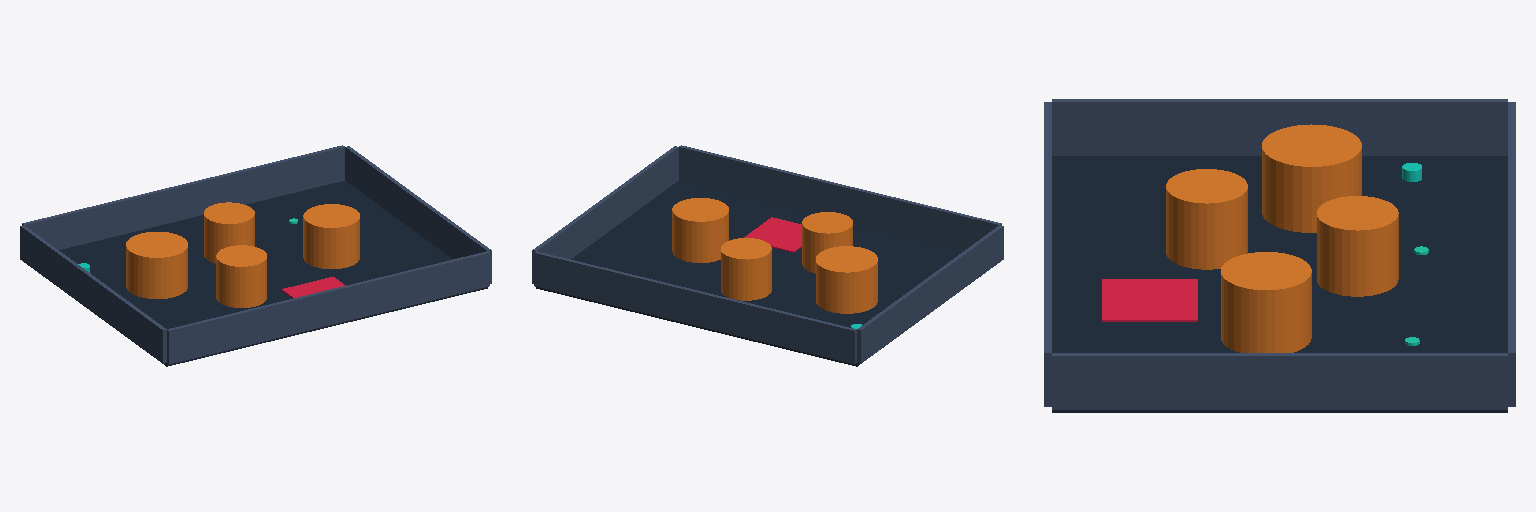
robot.urdf — veab_distribution-shift:
<?xml version='1.0' encoding='utf-8'?>
<robot name="veab_distribution-shift"><link name="world" /><link name="factory-floor"><visual><origin xyz="0 0 0" rpy="0 0 0" /><geometry><box size="13 10 0.15" /></geometry><material name="mat_factory-floor"><color rgba="0.16 0.21 0.27 1" /></material></visual><collision><origin xyz="0 0 0" rpy="0 0 0" /><geometry><box size="13 10 0.15" /></geometry></collision><inertial><origin xyz="0 0 0" rpy="0 0 0" /><mass value="1.0" /><inertia ixx="0.12" iyy="0.12" izz="0.12" ixy="0" ixz="0" iyz="0" /></inertial></link><joint name="anchor_factory-floor" type="fixed"><parent link="world" /><child link="factory-floor" /><origin xyz="6.5 5 -0.075" rpy="0 0 0" /></joint><link name="west-boundary"><visual><origin xyz="0 0 0" rpy="0 0 0" /><geometry><box size="0.16 10 1.3" /></geometry><material name="mat_west-boundary"><color rgba="0.3 0.36 0.46 0.68" /></material></visual><collision><origin xyz="0 0 0" rpy="0 0 0" /><geometry><box size="0.16 10 1.3" /></geometry></collision><inertial><origin xyz="0 0 0" rpy="0 0 0" /><mass value="1.0" /><inertia ixx="0.12" iyy="0.12" izz="0.12" ixy="0" ixz="0" iyz="0" /></inertial></link><joint name="anchor_west-boundary" type="fixed"><parent link="world" /><child link="west-boundary" /><origin xyz="-0.08 5 0.65" rpy="0 0 0" /></joint><link name="east-boundary"><visual><origin xyz="0 0 0" rpy="0 0 0" /><geometry><box size="0.16 10 1.3" /></geometry><material name="mat_east-boundary"><color rgba="0.3 0.36 0.46 0.68" /></material></visual><collision><origin xyz="0 0 0" rpy="0 0 0" /><geometry><box size="0.16 10 1.3" /></geometry></collision><inertial><origin xyz="0 0 0" rpy="0 0 0" /><mass value="1.0" /><inertia ixx="0.12" iyy="0.12" izz="0.12" ixy="0" ixz="0" iyz="0" /></inertial></link><joint name="anchor_east-boundary" type="fixed"><parent link="world" /><child link="east-boundary" /><origin xyz="13.08 5 0.65" rpy="0 0 0" /></joint><link name="south-boundary"><visual><origin xyz="0 0 0" rpy="0 0 0" /><geometry><box size="13 0.16 1.3" /></geometry><material name="mat_south-boundary"><color rgba="0.3 0.36 0.46 0.68" /></material></visual><collision><origin xyz="0 0 0" rpy="0 0 0" /><geometry><box size="13 0.16 1.3" /></geometry></collision><inertial><origin xyz="0 0 0" rpy="0 0 0" /><mass value="1.0" /><inertia ixx="0.12" iyy="0.12" izz="0.12" ixy="0" ixz="0" iyz="0" /></inertial></link><joint name="anchor_south-boundary" type="fixed"><parent link="world" /><child link="south-boundary" /><origin xyz="6.5 -0.08 0.65" rpy="0 0 0" /></joint><link name="north-boundary"><visual><origin xyz="0 0 0" rpy="0 0 0" /><geometry><box size="13 0.16 1.3" /></geometry><material name="mat_north-boundary"><color rgba="0.3 0.36 0.46 0.68" /></material></visual><collision><origin xyz="0 0 0" rpy="0 0 0" /><geometry><box size="13 0.16 1.3" /></geometry></collision><inertial><origin xyz="0 0 0" rpy="0 0 0" /><mass value="1.0" /><inertia ixx="0.12" iyy="0.12" izz="0.12" ixy="0" ixz="0" iyz="0" /></inertial></link><joint name="anchor_north-boundary" type="fixed"><parent link="world" /><child link="north-boundary" /><origin xyz="6.5 10.08 0.65" rpy="0 0 0" /></joint><link name="barrier-a"><visual><origin xyz="0 0 0" rpy="0 0 0" /><geometry><cylinder radius="1.1" length="1.6" /></geometry><material name="mat_barrier-a"><color rgba="0.9 0.52 0.2 1" /></material></visual><collision><origin xyz="0 0 0" rpy="0 0 0" /><geometry><cylinder radius="1.1" length="1.6" /></geometry></collision><inertial><origin xyz="0 0 0" rpy="0 0 0" /><mass value="1.0" /><inertia ixx="0.12" iyy="0.12" izz="0.12" ixy="0" ixz="0" iyz="0" /></inertial></link><joint name="anchor_barrier-a" type="fixed"><parent link="world" /><child link="barrier-a" /><origin xyz="2.9 5.7 0.8" rpy="0 0 0" /></joint><link name="barrier-b"><visual><origin xyz="0 0 0" rpy="0 0 0" /><geometry><cylinder radius="0.9" length="1.6" /></geometry><material name="mat_barrier-b"><color rgba="0.9 0.52 0.2 1" /></material></visual><collision><origin xyz="0 0 0" rpy="0 0 0" /><geometry><cylinder radius="0.9" length="1.6" /></geometry></collision><inertial><origin xyz="0 0 0" rpy="0 0 0" /><mass value="1.0" /><inertia ixx="0.12" iyy="0.12" izz="0.12" ixy="0" ixz="0" iyz="0" /></inertial></link><joint name="anchor_barrier-b" type="fixed"><parent link="world" /><child link="barrier-b" /><origin xyz="6.4 6.7 0.8" rpy="0 0 0" /></joint><link name="barrier-c"><visual><origin xyz="0 0 0" rpy="0 0 0" /><geometry><cylinder radius="1.0" length="1.6" /></geometry><material name="mat_barrier-c"><color rgba="0.9 0.52 0.2 1" /></material></visual><collision><origin xyz="0 0 0" rpy="0 0 0" /><geometry><cylinder radius="1.0" length="1.6" /></geometry></collision><inertial><origin xyz="0 0 0" rpy="0 0 0" /><mass value="1.0" /><inertia ixx="0.12" iyy="0.12" izz="0.12" ixy="0" ixz="0" iyz="0" /></inertial></link><joint name="anchor_barrier-c" type="fixed"><parent link="world" /><child link="barrier-c" /><origin xyz="9.4 4.7 0.8" rpy="0 0 0" /></joint><link name="barrier-d"><visual><origin xyz="0 0 0" rpy="0 0 0" /><geometry><cylinder radius="0.9" length="1.6" /></geometry><material name="mat_barrier-d"><color rgba="0.9 0.52 0.2 1" /></material></visual><collision><origin xyz="0 0 0" rpy="0 0 0" /><geometry><cylinder radius="0.9" length="1.6" /></geometry></collision><inertial><origin xyz="0 0 0" rpy="0 0 0" /><mass value="1.0" /><inertia ixx="0.12" iyy="0.12" izz="0.12" ixy="0" ixz="0" iyz="0" /></inertial></link><joint name="anchor_barrier-d" type="fixed"><parent link="world" /><child link="barrier-d" /><origin xyz="5 3.4 0.8" rpy="0 0 0" /></joint><link name="hazard-zone"><visual><origin xyz="0 0 0" rpy="0 0 0" /><geometry><box size="2.1 2.1 0.05" /></geometry><material name="mat_hazard-zone"><color rgba="0.9 0.18 0.32 0.25" /></material></visual><inertial><origin xyz="0 0 0" rpy="0 0 0" /><mass value="1.0" /><inertia ixx="0.12" iyy="0.12" izz="0.12" ixy="0" ixz="0" iyz="0" /></inertial></link><joint name="anchor_hazard-zone" type="fixed"><parent link="world" /><child link="hazard-zone" /><origin xyz="7.55 2.15 0.025" rpy="0 0 0" /></joint><link name="checkpoint-1-waypoint"><visual><origin xyz="0 0 0" rpy="0 0 0" /><geometry><cylinder radius="0.16" length="0.07" /></geometry><material name="mat_checkpoint-1-waypoint"><color rgba="0.16 0.83 0.71 0.8" /></material></visual><inertial><origin xyz="0 0 0" rpy="0 0 0" /><mass value="1.0" /><inertia ixx="0.12" iyy="0.12" izz="0.12" ixy="0" ixz="0" iyz="0" /></inertial></link><joint name="anchor_checkpoint-1-waypoint" type="fixed"><parent link="world" /><child link="checkpoint-1-waypoint" /><origin xyz="5 8.1 0.035" rpy="0 0 0" /></joint><link name="checkpoint-2-waypoint"><visual><origin xyz="0 0 0" rpy="0 0 0" /><geometry><cylinder radius="0.16" length="0.07" /></geometry><material name="mat_checkpoint-2-waypoint"><color rgba="0.16 0.83 0.71 0.8" /></material></visual><inertial><origin xyz="0 0 0" rpy="0 0 0" /><mass value="1.0" /><inertia ixx="0.12" iyy="0.12" izz="0.12" ixy="0" ixz="0" iyz="0" /></inertial></link><joint name="anchor_checkpoint-2-waypoint" type="fixed"><parent link="world" /><child link="checkpoint-2-waypoint" /><origin xyz="9.7 7.9 0.035" rpy="0 0 0" /></joint><link name="checkpoint-3-destination"><visual><origin xyz="0 0 0" rpy="0 0 0" /><geometry><cylinder radius="0.16" length="0.07" /></geometry><material name="mat_checkpoint-3-destination"><color rgba="0.16 0.83 0.71 0.8" /></material></visual><inertial><origin xyz="0 0 0" rpy="0 0 0" /><mass value="1.0" /><inertia ixx="0.12" iyy="0.12" izz="0.12" ixy="0" ixz="0" iyz="0" /></inertial></link><joint name="anchor_checkpoint-3-destination" type="fixed"><parent link="world" /><child link="checkpoint-3-destination" /><origin xyz="11.6 2.1 0.035" rpy="0 0 0" /></joint><link name="robot"><visual><origin xyz="0 0 0" rpy="0 0 0" /><geometry><cylinder radius="0.22" length="0.27" /></geometry><material name="mat_robot"><color rgba="0.12 0.83 0.76 1" /></material></visual><collision><origin xyz="0 0 0" rpy="0 0 0" /><geometry><cylinder radius="0.22" length="0.27" /></geometry></collision><inertial><origin xyz="0 0 0" rpy="0 0 0" /><mass value="8.0" /><inertia ixx="0.12" iyy="0.12" izz="0.12" ixy="0" ixz="0" iyz="0" /></inertial></link><joint name="anchor_robot" type="fixed"><parent link="world" /><child link="robot" /><origin xyz="1.2 7.9 0.16" rpy="0 0 0" /></joint></robot>

--- What the picture shows (computed from the rendered views, not written in the file) ---
3 views of the same robot in one strip: view 1: azimuth 30°, elevation 25°; view 2: azimuth 150°, elevation 25°; view 3: azimuth 270°, elevation 25° (orthographic).
Robot: veab_distribution-shift — 15 links, 14 joints (14 fixed); root link world; default pose: all joints at 0.
Links seen in each view (by area): view 1: factory-floor, south-boundary, north-boundary, west-boundary, east-boundary, barrier-a, barrier-c, barrier-d, barrier-b, hazard-zone; view 2: factory-floor, north-boundary, south-boundary, west-boundary, east-boundary, barrier-a, barrier-c, barrier-b, barrier-d, hazard-zone; view 3: factory-floor, east-boundary, west-boundary, barrier-c, barrier-a, barrier-b, barrier-d, hazard-zone, south-boundary, north-boundary.
Link boxes in pixels (x1,y1,x2,y2): factory-floor: (43,181,487,366); south-boundary: (167,251,489,364); north-boundary: (22,145,344,249); west-boundary: (20,225,166,363); east-boundary: (345,146,491,283); barrier-a: (126,232,187,298); barrier-c: (303,204,359,268); barrier-d: (216,245,266,307); barrier-b: (204,202,254,263); hazard-zone: (282,277,345,297); factory-floor: (536,181,980,366); north-boundary: (534,251,856,364); south-boundary: (679,145,1001,249); west-boundary: (857,225,1003,363); east-boundary: (532,146,678,283); barrier-a: (816,246,877,313); barrier-c: (672,198,728,262); barrier-b: (721,238,771,300); barrier-d: (802,212,852,273); hazard-zone: (744,217,801,252); factory-floor: (1052,156,1507,412); east-boundary: (1052,353,1507,409); west-boundary: (1052,99,1507,155); barrier-c: (1221,252,1311,352); barrier-a: (1262,124,1361,232); barrier-b: (1317,196,1398,296); barrier-d: (1166,169,1247,269); hazard-zone: (1102,279,1197,321); south-boundary: (1044,102,1051,406); north-boundary: (1508,102,1515,406).
Bounding box of the posed robot: 13.32 × 10.32 × 1.75 m (x, y, z).
Geometry: primitives only (box / cylinder / sphere), no mesh files.
